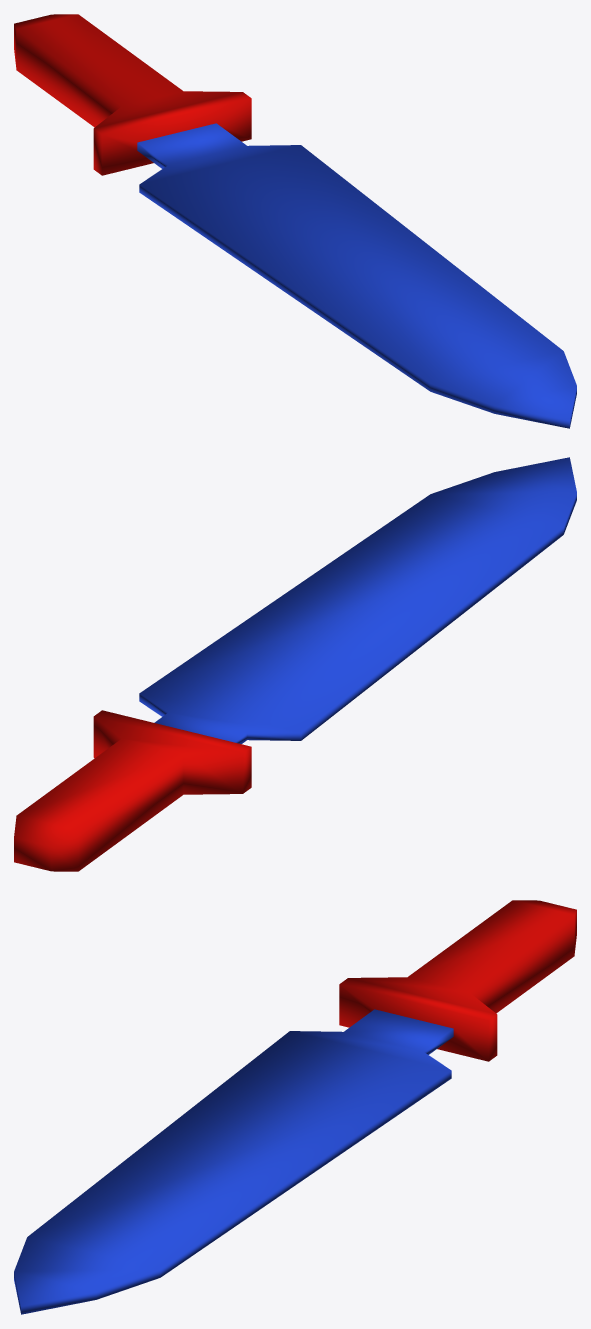
File: knife1.fbx
3 views of the same model, one above another, from view 1: azimuth 30°, elevation 25°; view 2: azimuth 150°, elevation 25°; view 3: azimuth 330°, elevation 25° (orthographic).
Parts seen in each view (by area): view 1: blade; view 2: blade; view 3: blade.
Part boxes in pixels (box(x1,y1,x2,y2)): blade: box(14, 14, 576, 428); blade: box(14, 457, 576, 871); blade: box(14, 900, 576, 1314).
Size of the model in its own units: 20.02 by 4.85 by 115.
